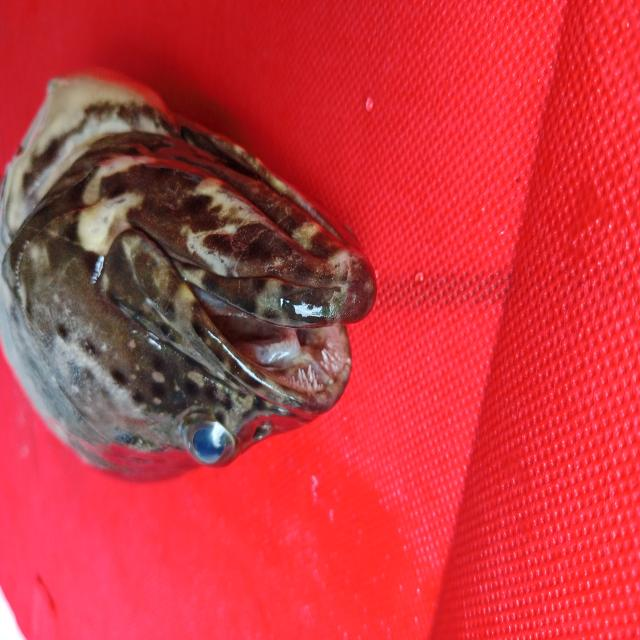ikan: (4, 29, 383, 487)
